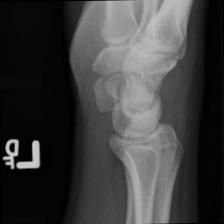longitudinal-fracture: (61, 0, 212, 224)
